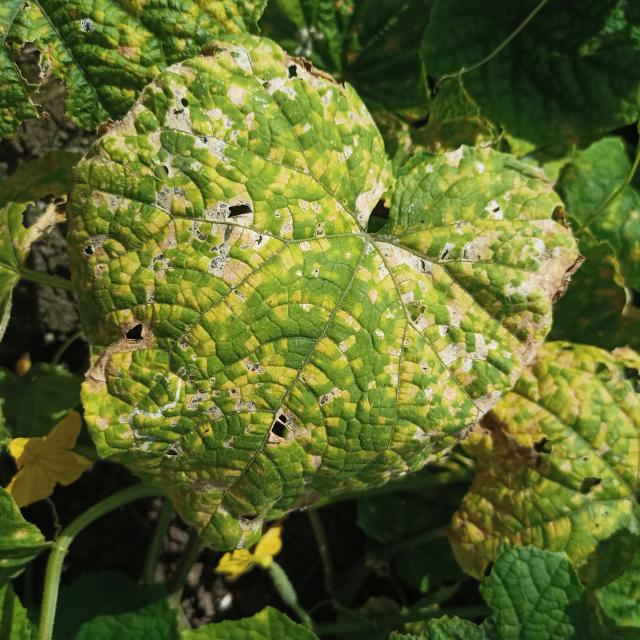disease_cucumber: (87, 58, 568, 539), (453, 344, 640, 577)
